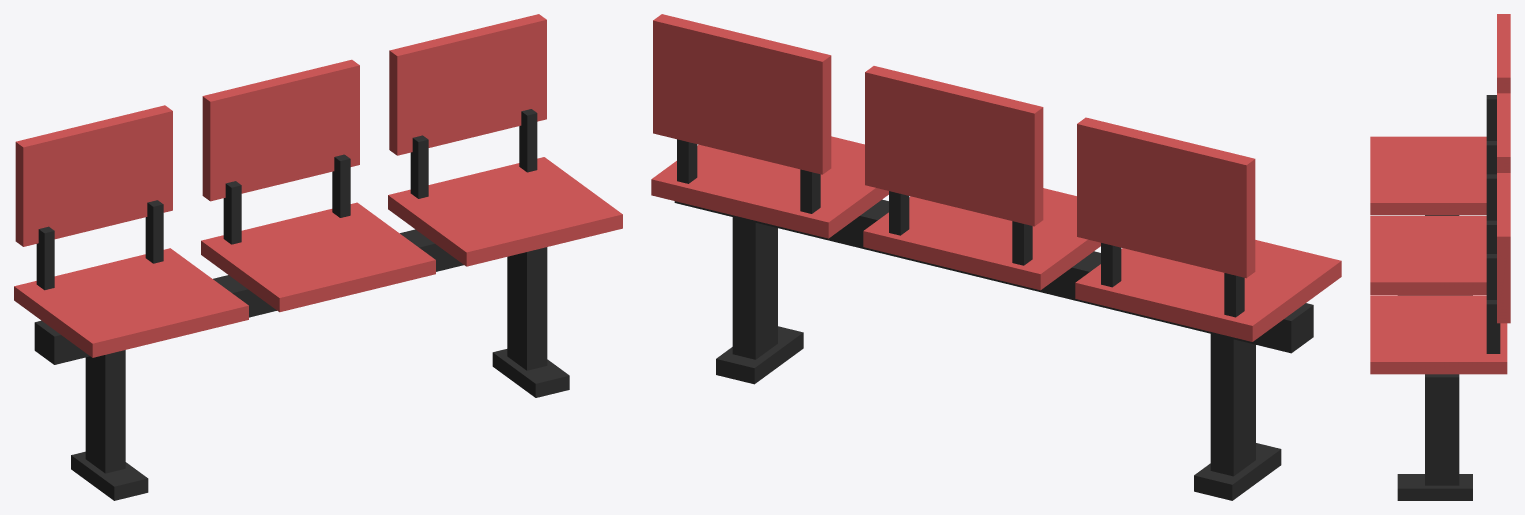
File: panca.glb
The picture shows the model from 3 angles, left to right: view 1: azimuth 30°, elevation 25°; view 2: azimuth 150°, elevation 25°; view 3: azimuth 270°, elevation 25°; orthographic projection. The views are drawn at different scales.
Parts seen in each view (by area): view 1: Panca_red, Panca_black; view 2: Panca_red, Panca_black; view 3: Panca_red, Panca_black.
Part boxes in pixels (bbox=[...]): Panca_red: bbox=[14, 14, 622, 357]; Panca_black: bbox=[34, 109, 569, 500]; Panca_red: bbox=[651, 14, 1341, 341]; Panca_black: bbox=[674, 139, 1313, 500]; Panca_red: bbox=[1370, 14, 1510, 374]; Panca_black: bbox=[1397, 95, 1500, 500].
Bounding box in the file's own units: 1.6 × 0.9 × 0.41.
